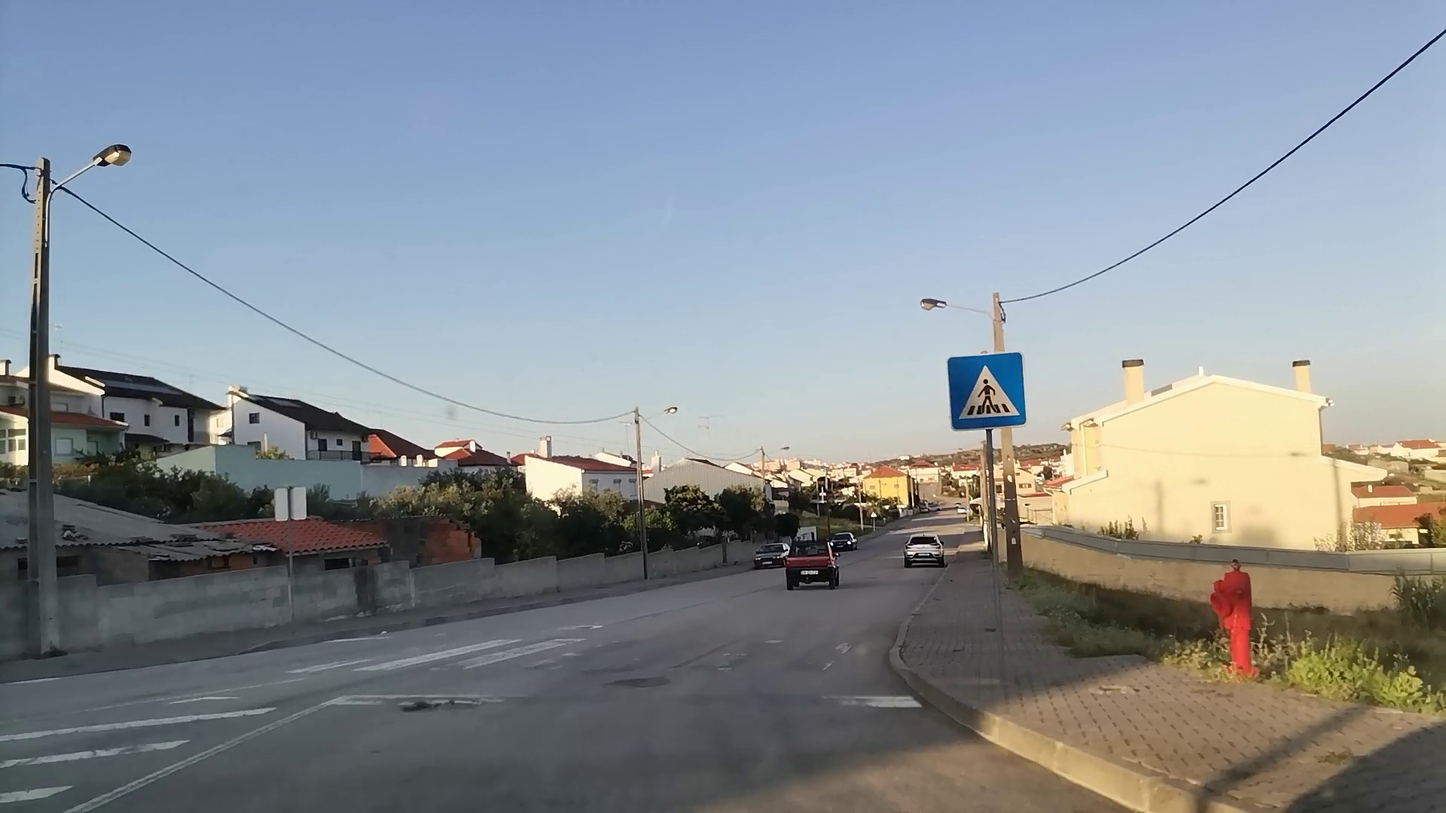Stairs: (112, 627, 861, 683)
